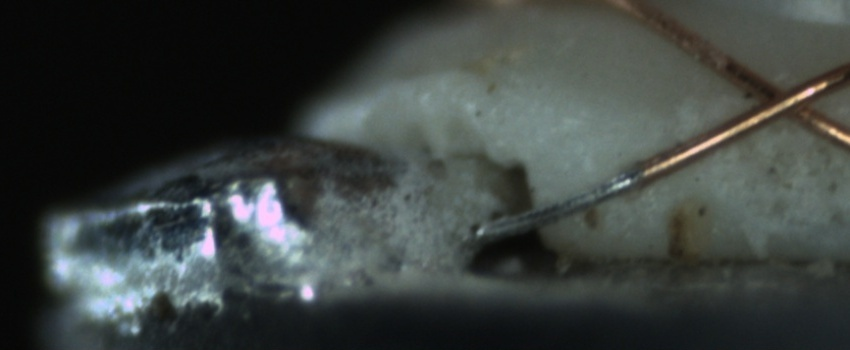CL: (727, 60, 836, 134)
TS: (483, 169, 637, 238)
